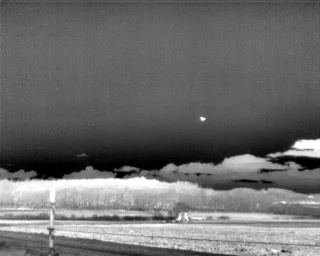DRONE: (197, 113, 209, 124)
